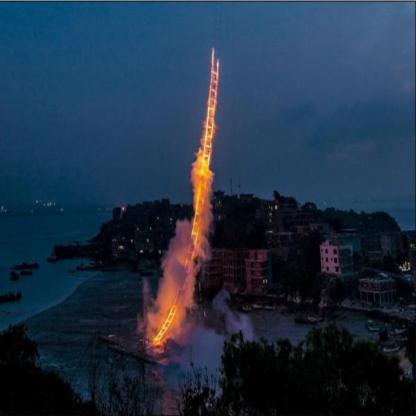fire: (144, 37, 223, 353)
smoke: (321, 238, 355, 274), (149, 277, 168, 322), (168, 227, 183, 273), (181, 288, 190, 308), (190, 271, 194, 289)
